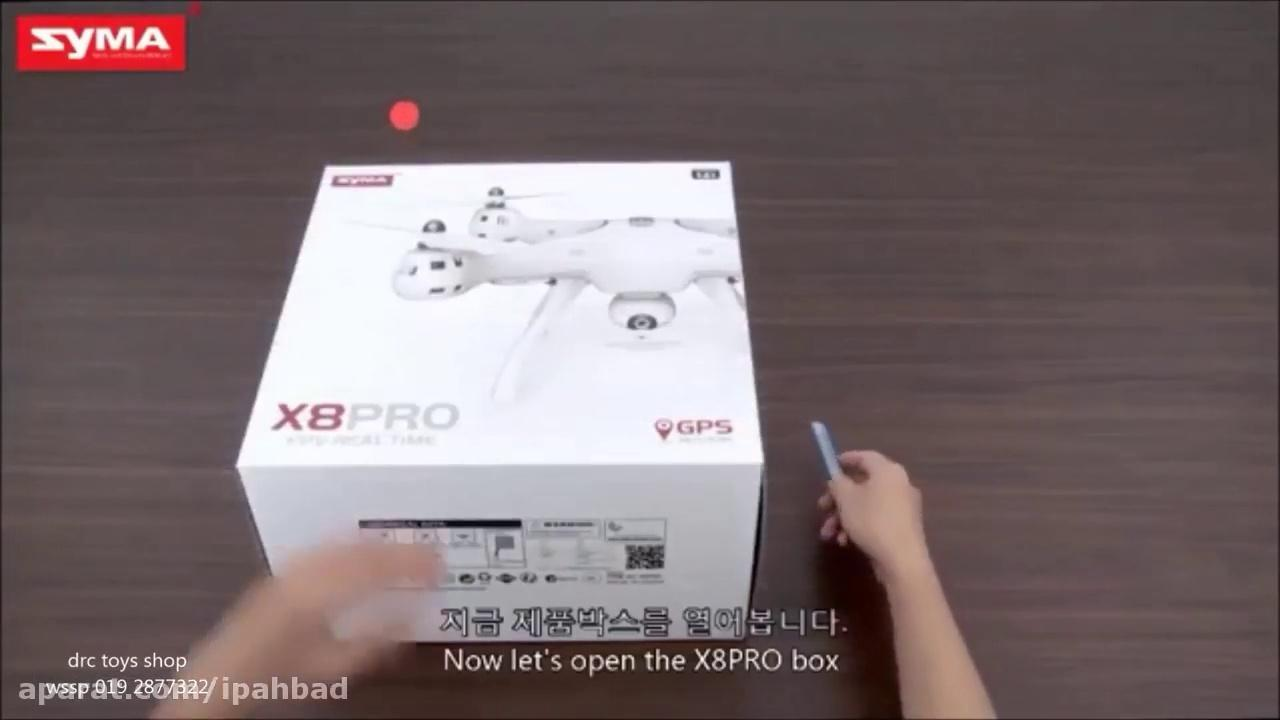drone: (340, 180, 755, 401)
